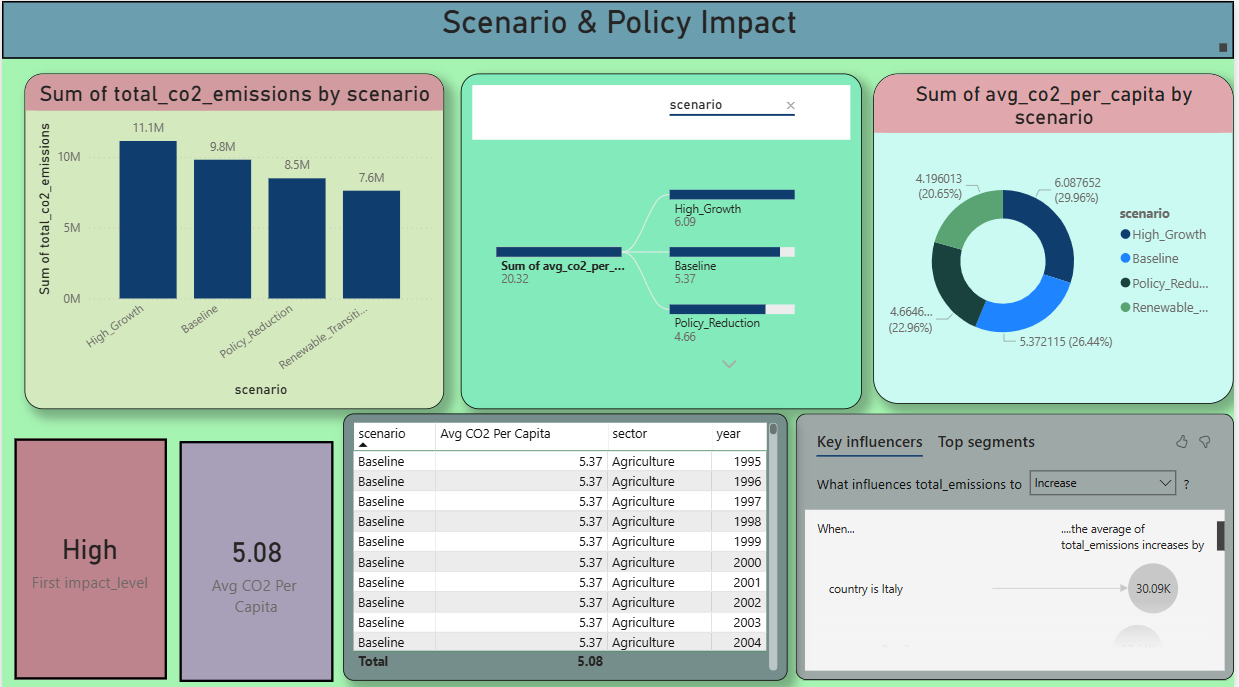

The page's visual inventory and layout, read from the dashboard file:
{"tool":"powerbi","page":{"name":"SCENARIO & POLICY IMPACT","canvas":[1280,720],"ordinal":3},"visuals":[{"type":"textbox","title":"Scenario & Policy Impact","box":[0,0,1280,60],"z":0},{"type":"clusteredColumnChart","fields":{"Category":["dim_scenario.scenario"],"Y":["Sum(scenario_environment_impact.total_co2_emissions)"]},"box":[22.9,75.7,435.7,348.6],"z":1000},{"type":"card","fields":{"Values":["Min(scenario_environment_impact.impact_level)"]},"box":[13.3,455,158.3,250],"z":2000},{"type":"card","fields":{"Values":["country_emissions_summary.Avg CO2 Per Capita"]},"box":[185,456.7,160,250],"z":3000},{"type":"decompositionTreeVisual","fields":{"ExplainBy":["dim_scenario.scenario"],"Analyze":["Sum(scenario_environment_impact.avg_co2_per_capita)"]},"box":[477.1,75.7,417.1,348.6],"z":4000},{"type":"donutChart","fields":{"Category":["scenario_environment_impact.scenario"],"Y":["Sum(scenario_environment_impact.avg_co2_per_capita)"]},"box":[905.7,75.7,374.3,342.9],"z":6000},{"type":"keyDriversVisual","fields":{"ExplainBy":["economic_emissions_analysis.year","dim_country.country","dim_region.region"],"Target":["economic_emissions_analysis.total_emissions"]},"box":[825,428.3,455,276.7],"z":7000},{"type":"tableEx","fields":{"Values":["scenario_environment_impact.scenario","country_emissions_summary.Avg CO2 Per Capita","sector_emissions_summary.sector","sector_emissions_summary.year"]},"box":[354.6,428.2,461.4,277.3],"z":8000}]}

Visuals, with their boxes in screenshot pixels (x1, y1, x2, y2), scaled from the page's 1280x720 canvas onto the 1239x687 screenshot:
"Scenario & Policy Impact" textbox: region(0, 0, 1238, 57)
clusteredColumnChart - dim_scenario.scenario x Sum(scenario_environment_impact.total_co2_emissions): region(22, 72, 444, 405)
card - Min(scenario_environment_impact.impact_level): region(13, 434, 166, 673)
card - country_emissions_summary.Avg CO2 Per Capita: region(179, 436, 334, 674)
decompositionTreeVisual - dim_scenario.scenario x Sum(scenario_environment_impact.avg_co2_per_capita): region(462, 72, 866, 405)
donutChart - scenario_environment_impact.scenario x Sum(scenario_environment_impact.avg_co2_per_capita): region(877, 72, 1238, 399)
keyDriversVisual - economic_emissions_analysis.year x dim_country.country: region(799, 409, 1238, 673)
tableEx - scenario_environment_impact.scenario x country_emissions_summary.Avg CO2 Per Capita: region(343, 409, 790, 673)
